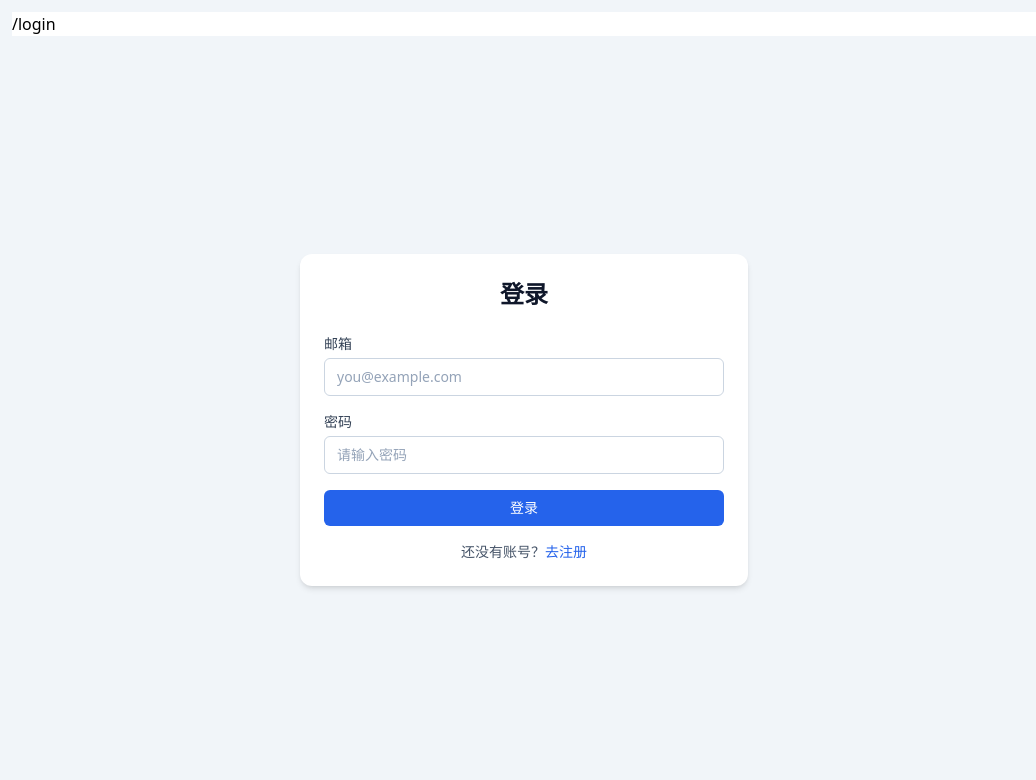
Test: LoginPage › 邮箱格式错误时显示对应校验信息
Type "not-an-email" into the field labelled "邮箱" at (524, 377), box x1=324 y1=358 x2=724 y2=396
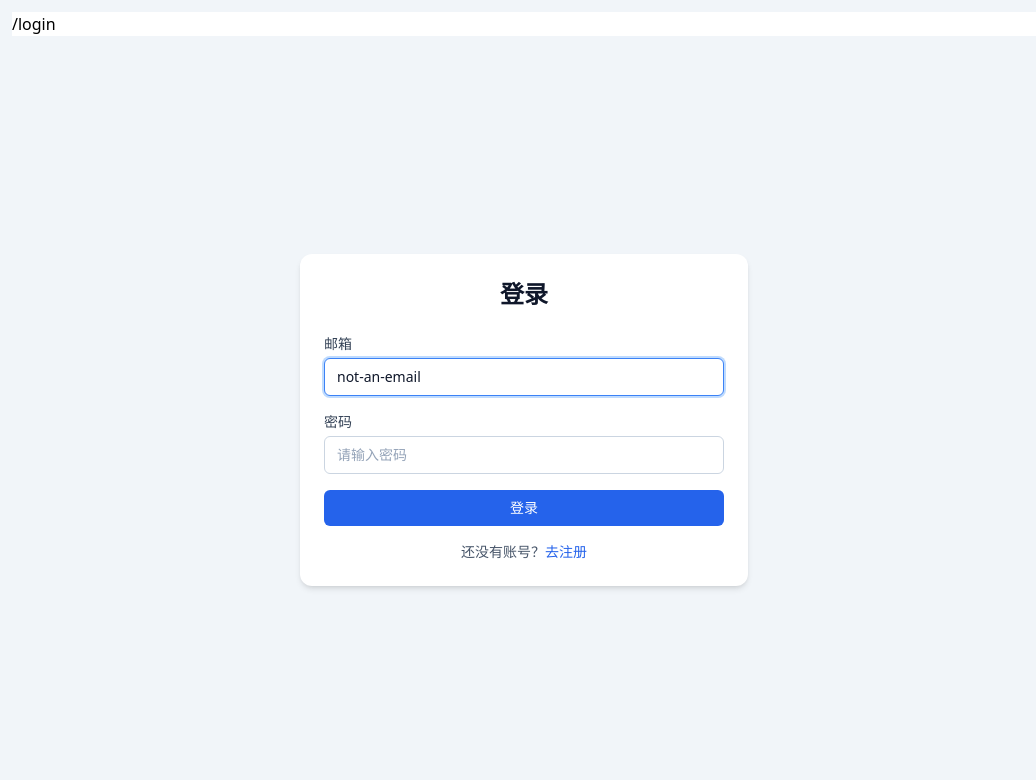
Click the button "登录" at (524, 508), box x1=324 y1=490 x2=724 y2=526
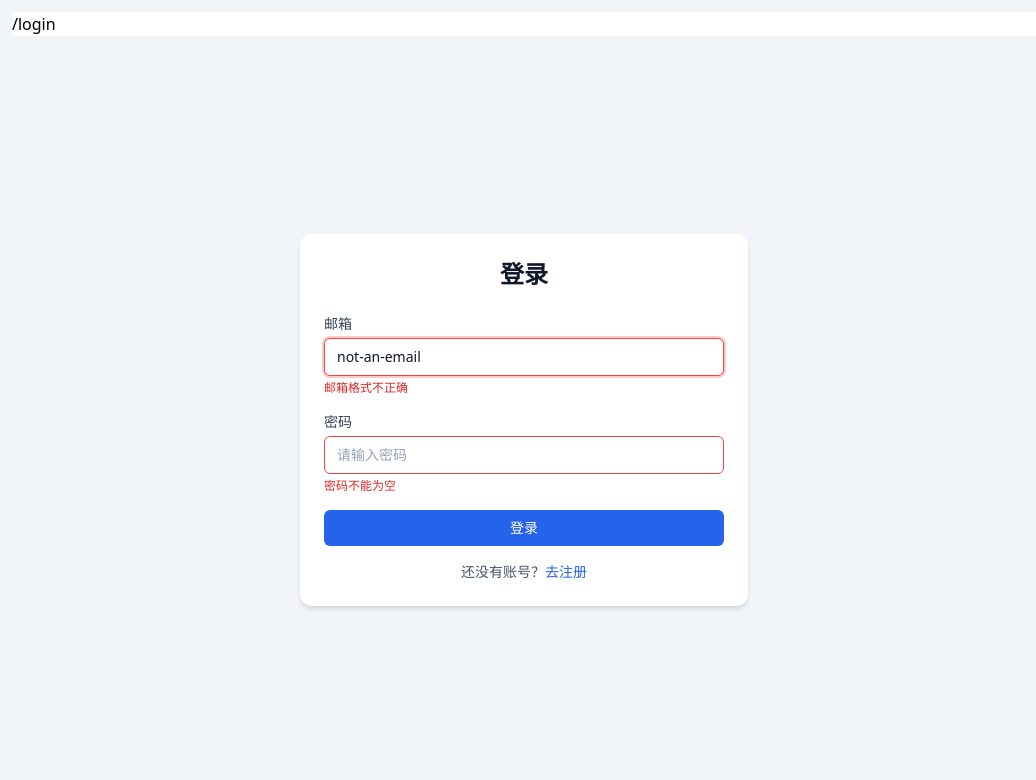
Check: the text "邮箱格式不正确" is shown, box x1=324 y1=379 x2=408 y2=396
